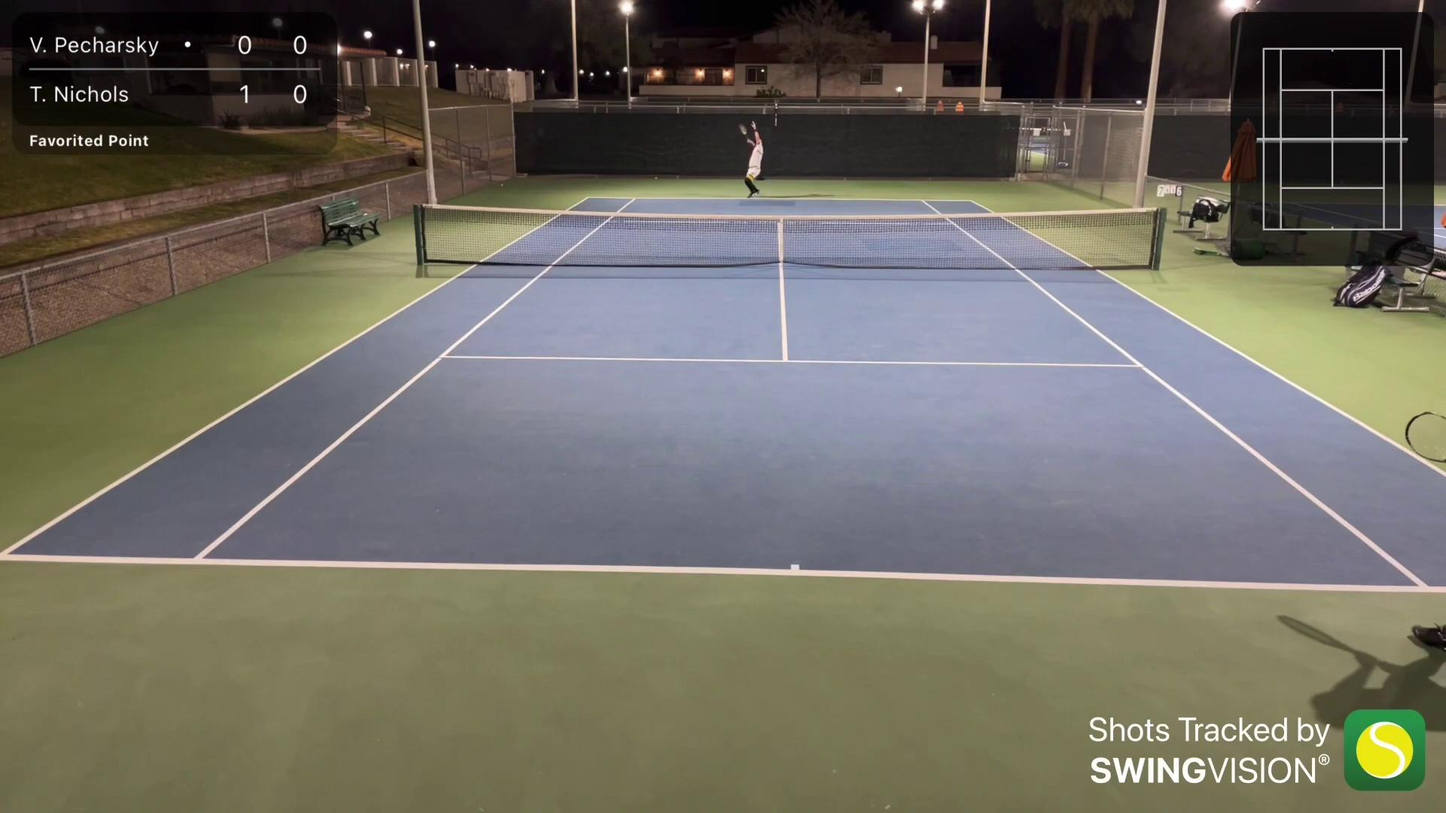ball: (760, 67, 766, 73), (499, 183, 505, 187)
